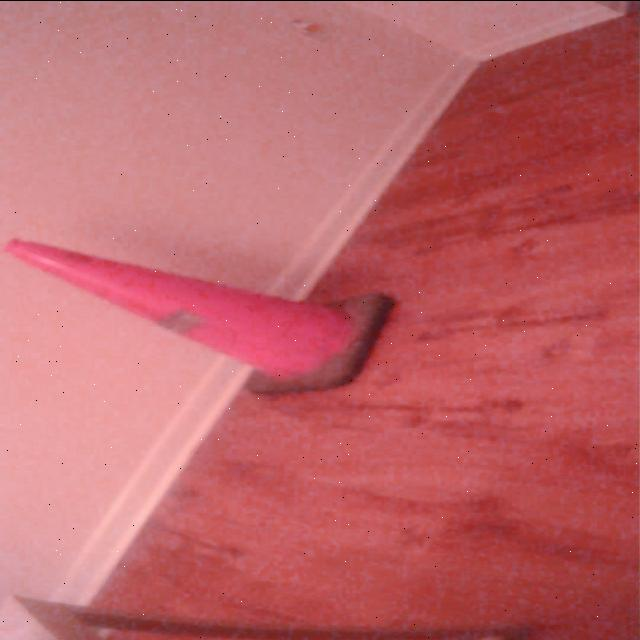traffic cone: (2, 236, 400, 399)
